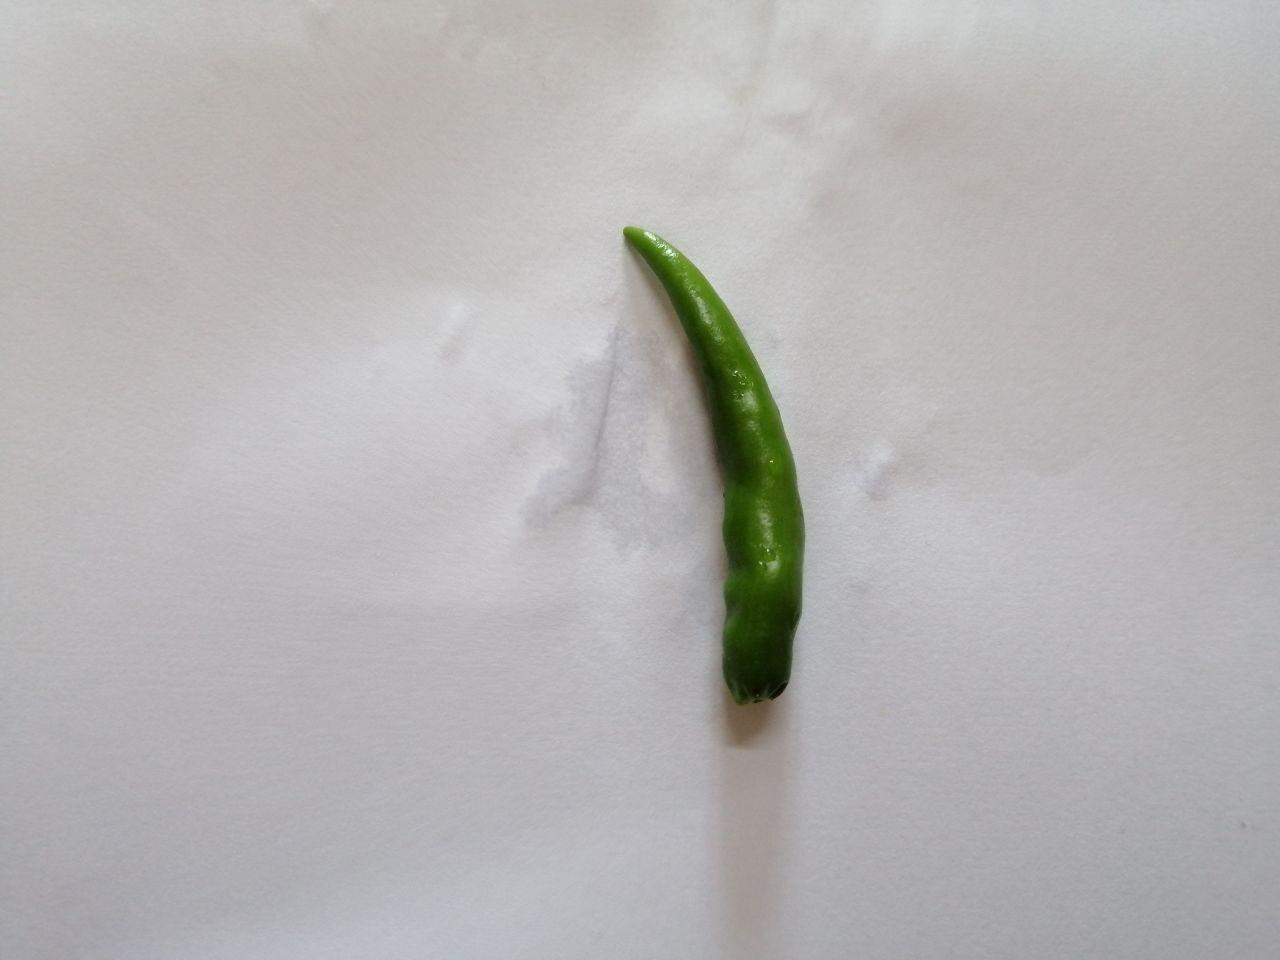lada hijau: (600, 203, 840, 733)
